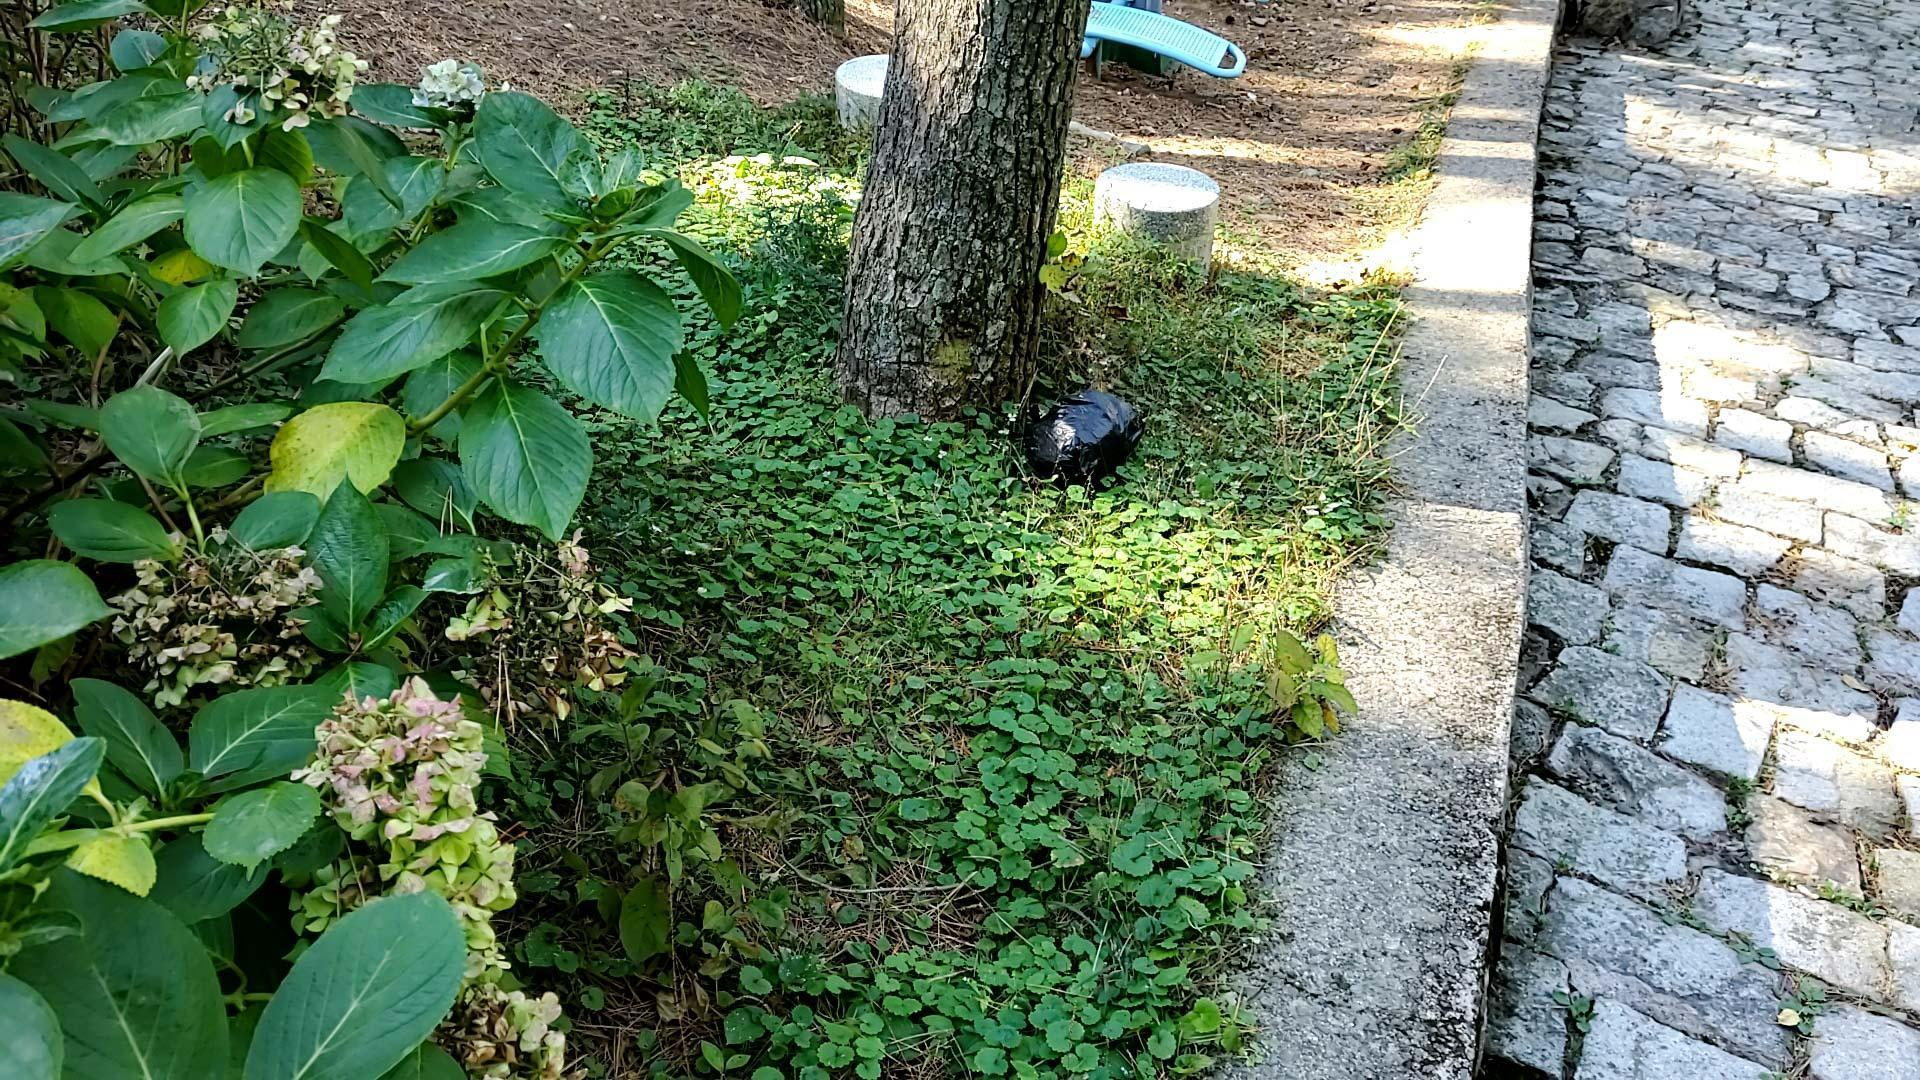black_bag: (1029, 377, 1143, 497)
